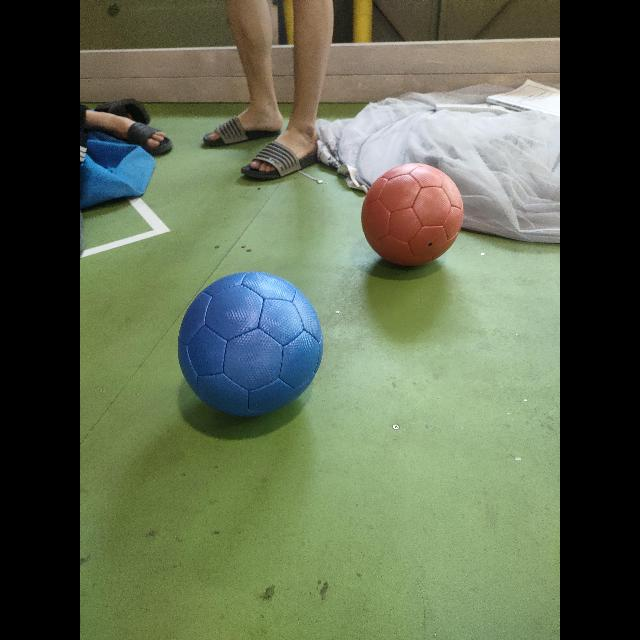B: (178, 272, 322, 416)
R: (361, 164, 464, 265)
